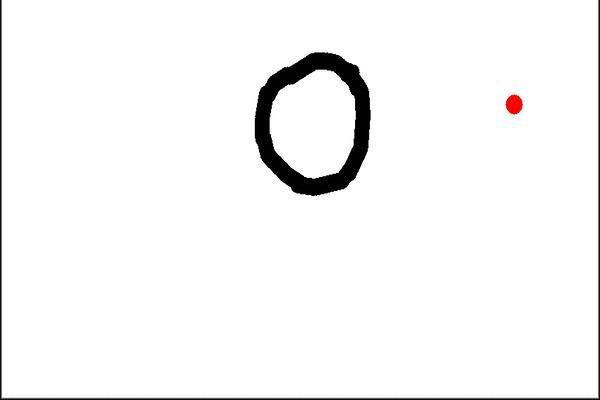O: (242, 46, 378, 199)
